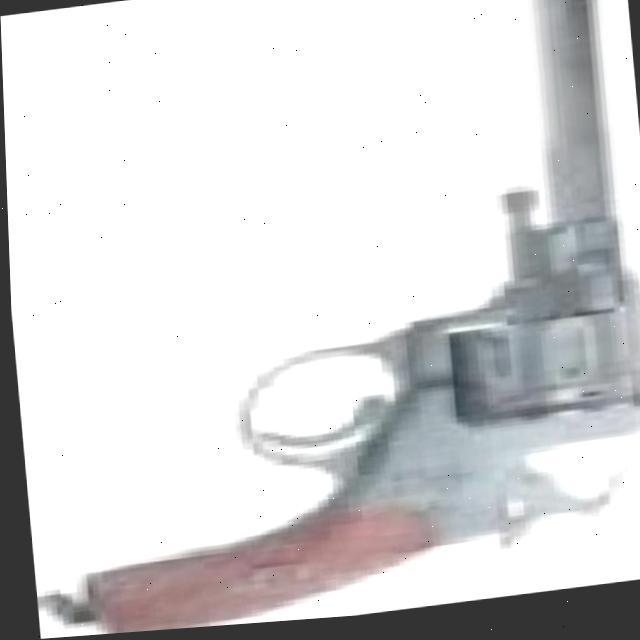gun: (45, 0, 640, 627)
